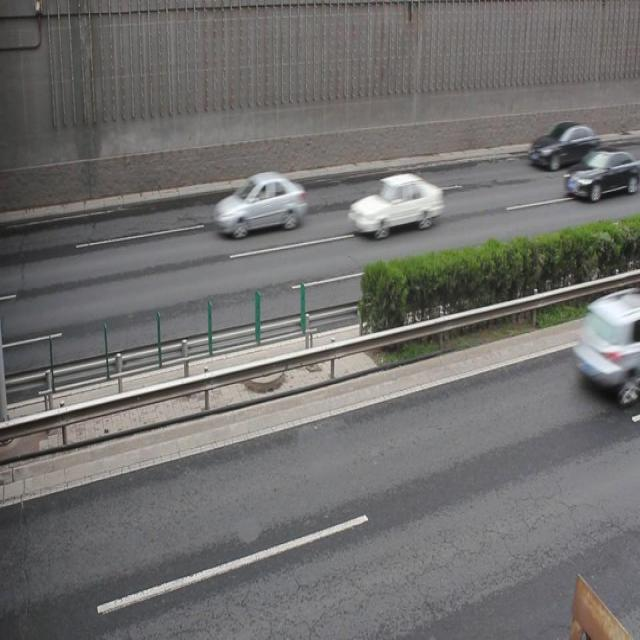car: (573, 292, 640, 404), (346, 170, 443, 233), (213, 176, 306, 234), (564, 148, 640, 200), (529, 119, 600, 165)
